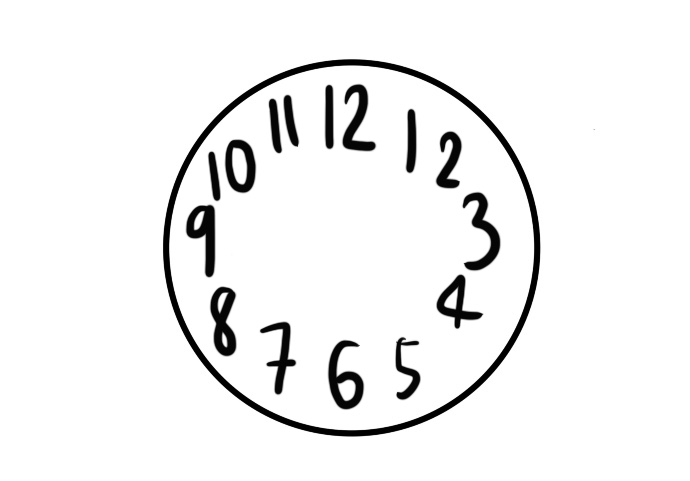eight: (209, 284, 237, 357)
eleven: (268, 94, 301, 153)
five: (392, 331, 422, 400)
four: (434, 271, 484, 327)
nine: (184, 203, 218, 277)
one: (398, 104, 420, 175)
seven: (260, 320, 297, 393)
six: (328, 338, 364, 409)
ten: (206, 139, 256, 203)
three: (460, 189, 501, 270)
twelve: (320, 79, 376, 153)
two: (433, 125, 463, 189)
